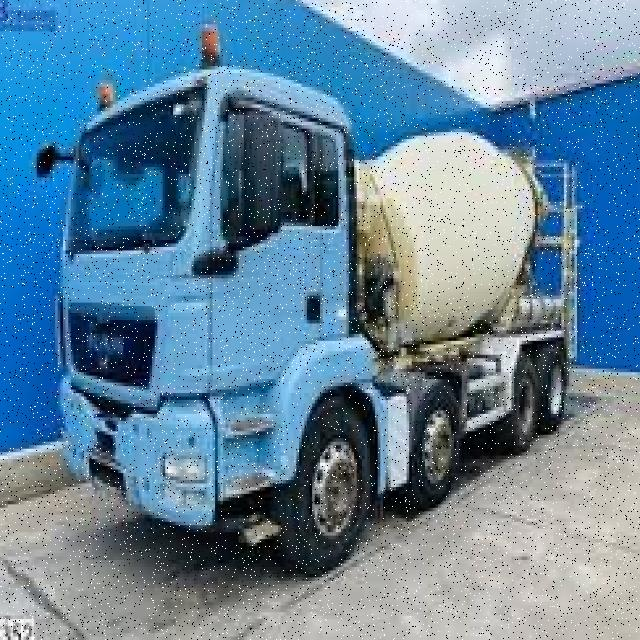Mixer Truck: (32, 24, 586, 578)
